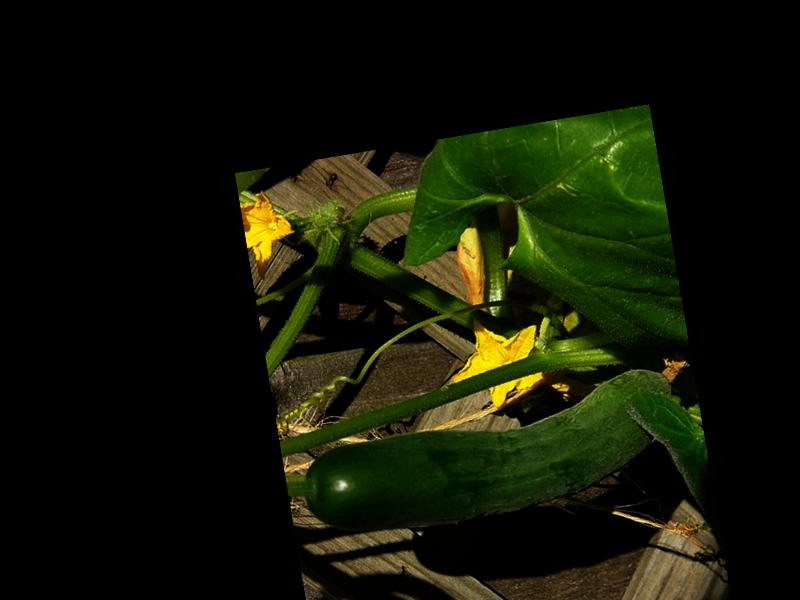Cucumber: (297, 360, 707, 547)
